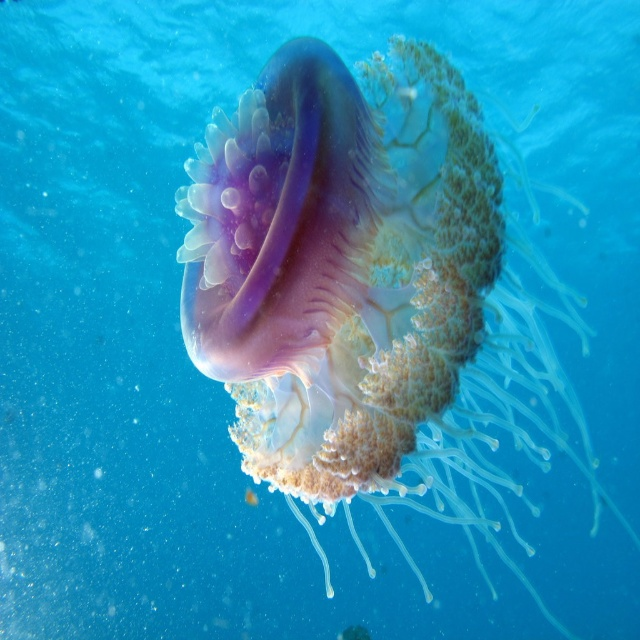Jellyfish: (174, 30, 639, 639)
